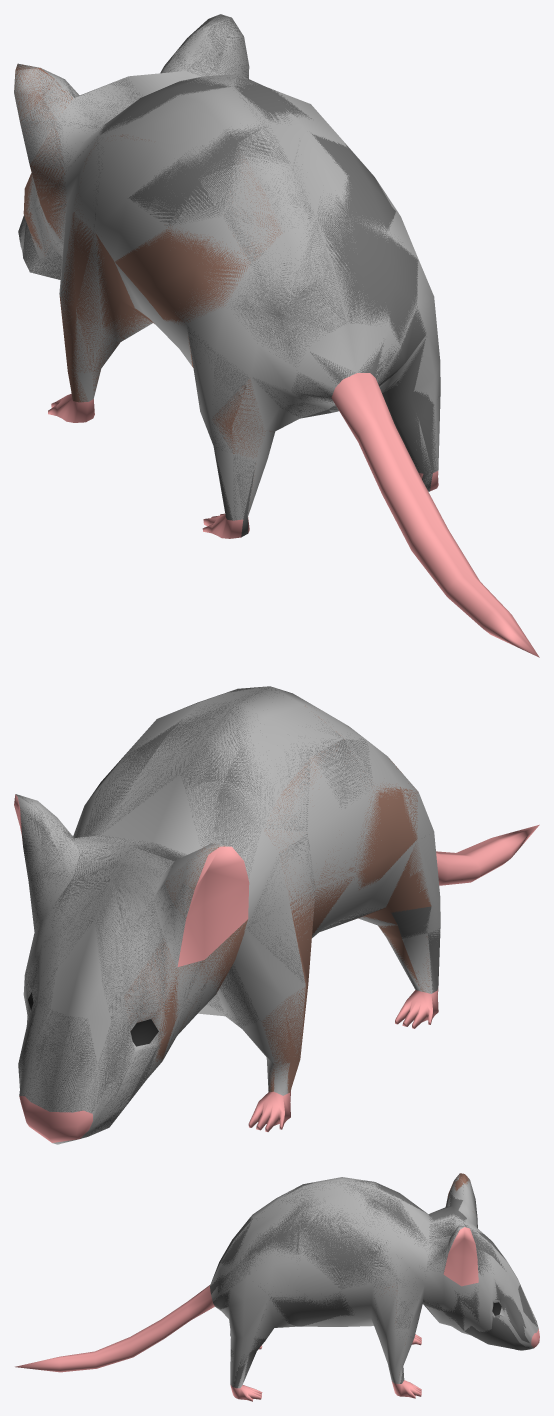
Rendered from rat_pack.glb.
The picture shows the model from 3 angles, top to bottom: view 1: azimuth 30°, elevation 25°; view 2: azimuth 150°, elevation 25°; view 3: azimuth 270°, elevation 25°; orthographic projection. The views are drawn at different scales.
Parts seen in each view (by area): view 1: Rat_A, Rat_B, Rat_C; view 2: Rat_A, Rat_B, Rat_C; view 3: Rat_A, Rat_B.
Boxes of the visible parts, x1,y1,x2,y2 form: Rat_A: (14,14,539,657); Rat_B: (18,14,536,653); Rat_C: (14,64,282,535); Rat_A: (14,686,539,1144); Rat_B: (14,686,536,1141); Rat_C: (124,705,434,1131); Rat_A: (15,1174,539,1401); Rat_B: (19,1180,537,1399).
Bounding box in the file's own units: 0.7185 × 0.9968 × 2.49.
Materials: 1 (1 with a texture image).
